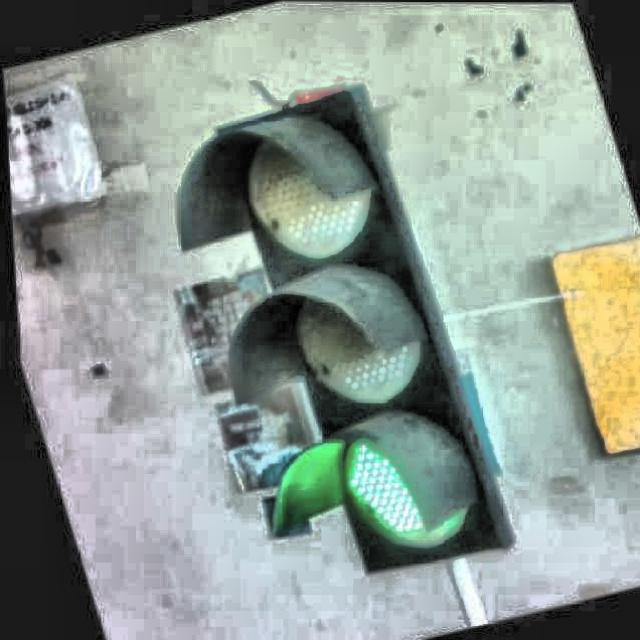green: (146, 86, 514, 602)
